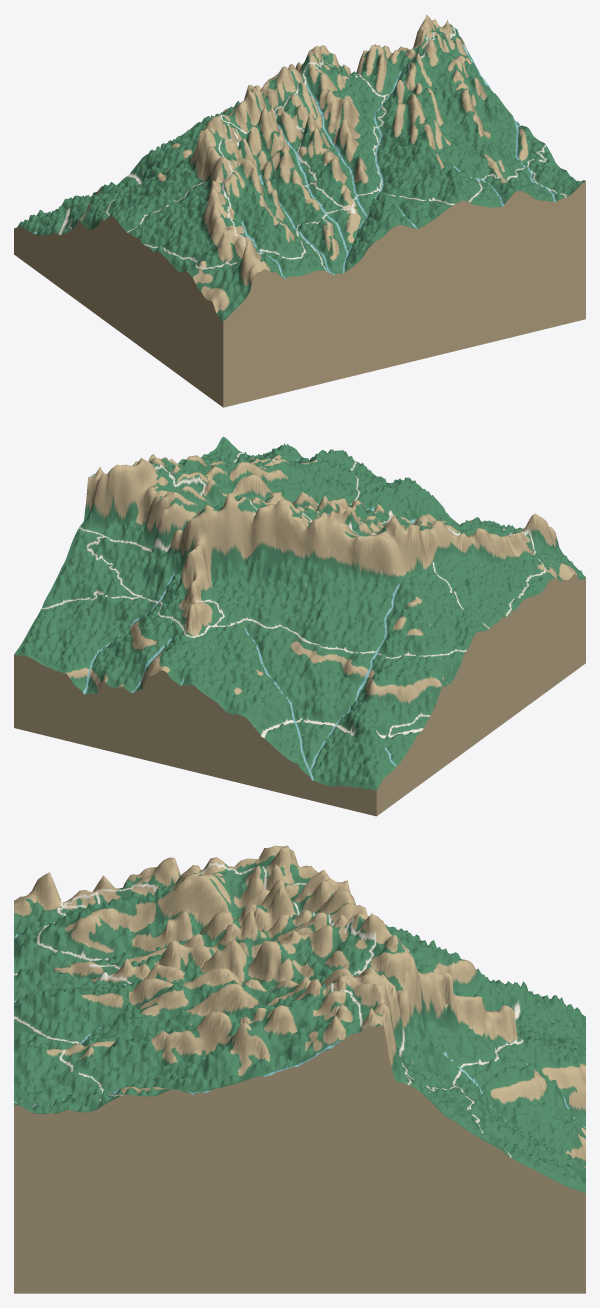
Rendered from agulles-montserrat.glb.
The picture shows the model from 3 angles, top to bottom: view 1: azimuth 30°, elevation 25°; view 2: azimuth 150°, elevation 25°; view 3: azimuth 270°, elevation 25°; orthographic projection. The views are drawn at different scales.
Visible parts, largest first — view 1: Preview surface; view 2: Preview surface; view 3: Preview surface.
Part boxes in pixels (x1=…): Preview surface: x1=14, y1=14, x2=585, y2=407; Preview surface: x1=14, y1=436, x2=585, y2=816; Preview surface: x1=14, y1=845, x2=585, y2=1293.
Bounding box in the file's own units: 1 × 0.5642 × 1.
2 materials, 1 textured.
